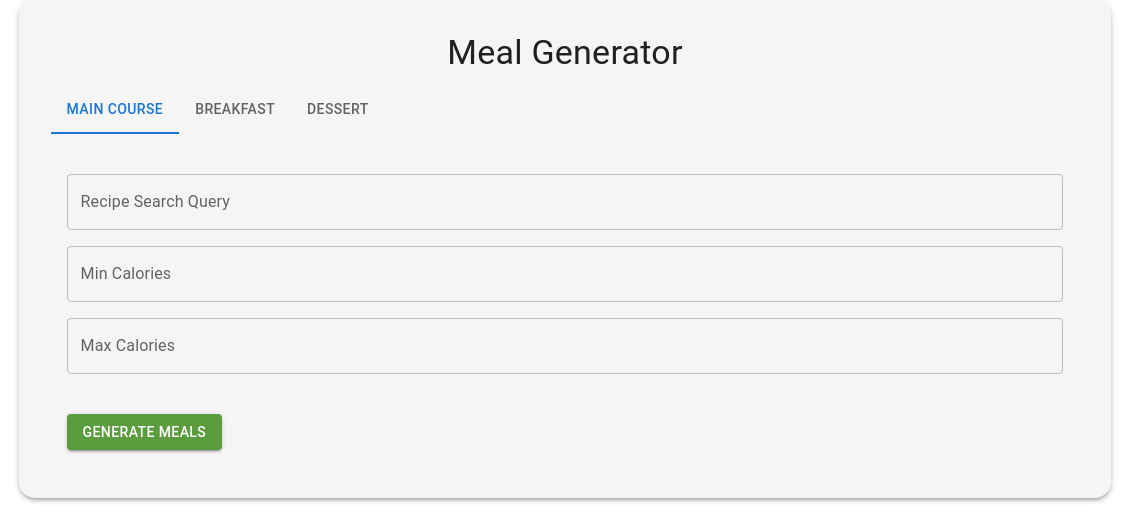
Test case: MealGenerator Component › switches to "Dessert" tab and displays correct input fields
The image size is (1131, 520).
Click the tab "Dessert": click(338, 110) top-left (291, 86), bottom-right (385, 134)
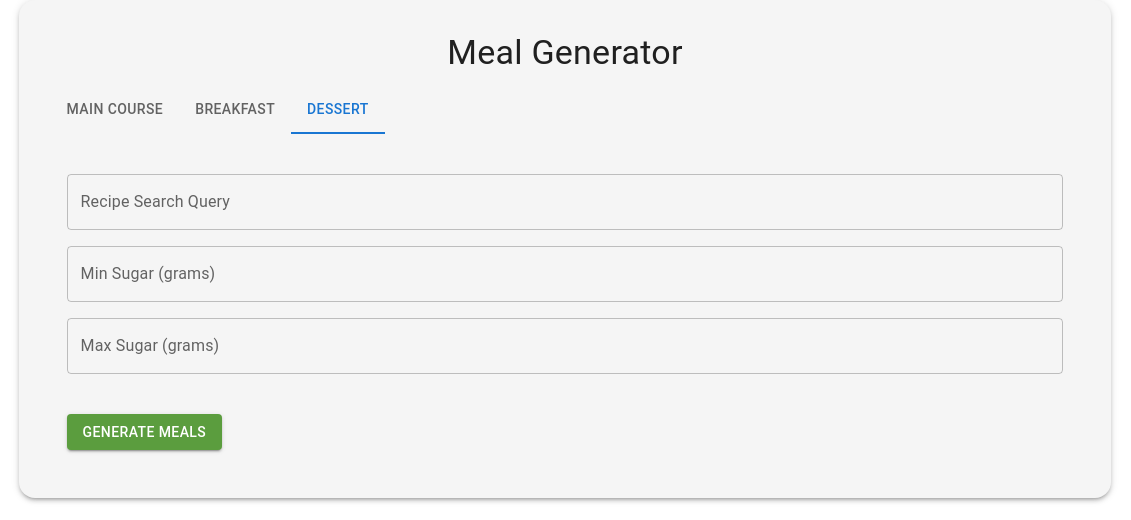
Expected: the element with test id "meal-generator-query-input" is shown, top-left (67, 174), bottom-right (1063, 230)
Expected: the element with test id "meal-generator-min-sugar-input" is shown, top-left (67, 246), bottom-right (1063, 302)
Expected: the element with test id "meal-generator-max-sugar-input" is shown, top-left (67, 318), bottom-right (1063, 374)
